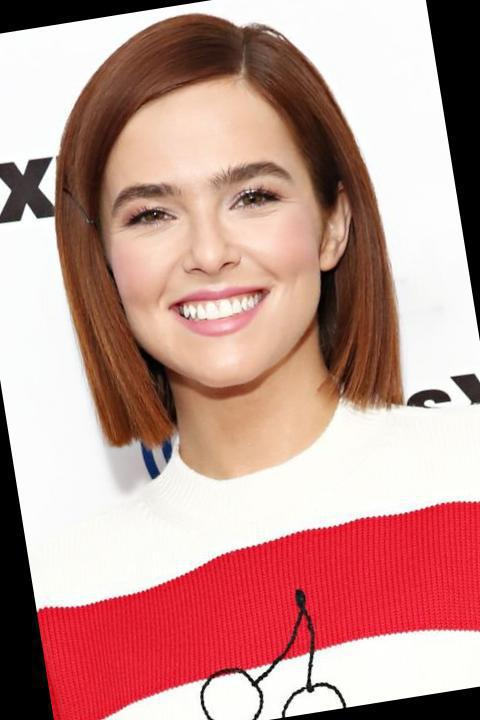Sober: (107, 105, 322, 396)
